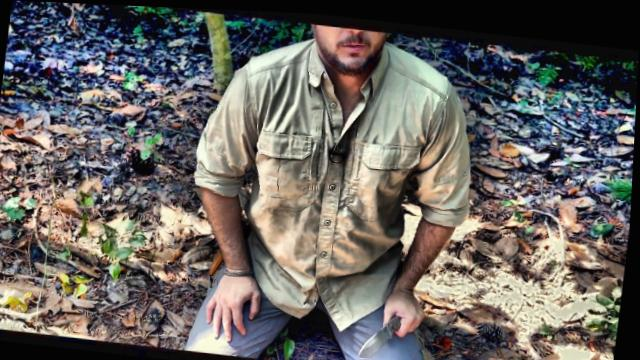knife: (356, 279, 434, 360)
